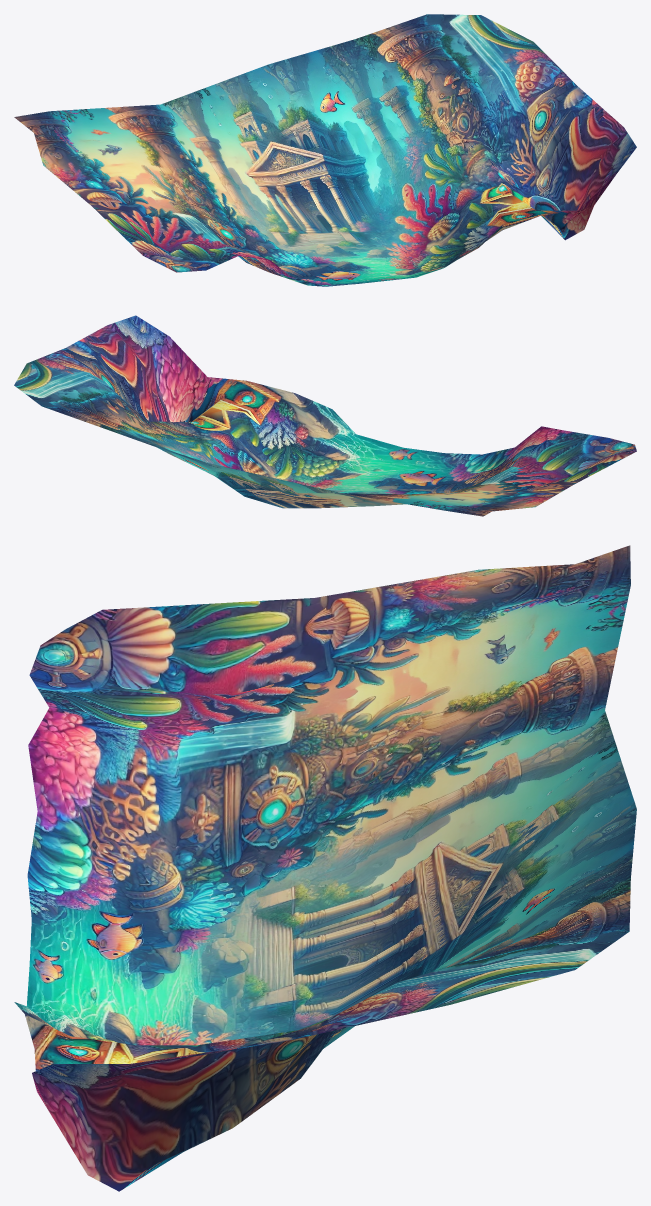
Rendered from Background_fbx_optimized_textured.fbx.
3 renders of one model, top to bottom at view 1: azimuth 30°, elevation 25°; view 2: azimuth 150°, elevation 25°; view 3: azimuth 270°, elevation 25°, orthographic. The views are drawn at different scales.
Visible parts, largest first — view 1: DepthMapObj; view 2: DepthMapObj; view 3: DepthMapObj.
Boxes of the visible parts, x1,y1,x2,y2 form: DepthMapObj: (14, 14, 636, 286); DepthMapObj: (14, 315, 636, 516); DepthMapObj: (14, 545, 636, 1191).
Size of the model in its own units: 41372 by 10571 by 23478.
1 material, 1 textured.
